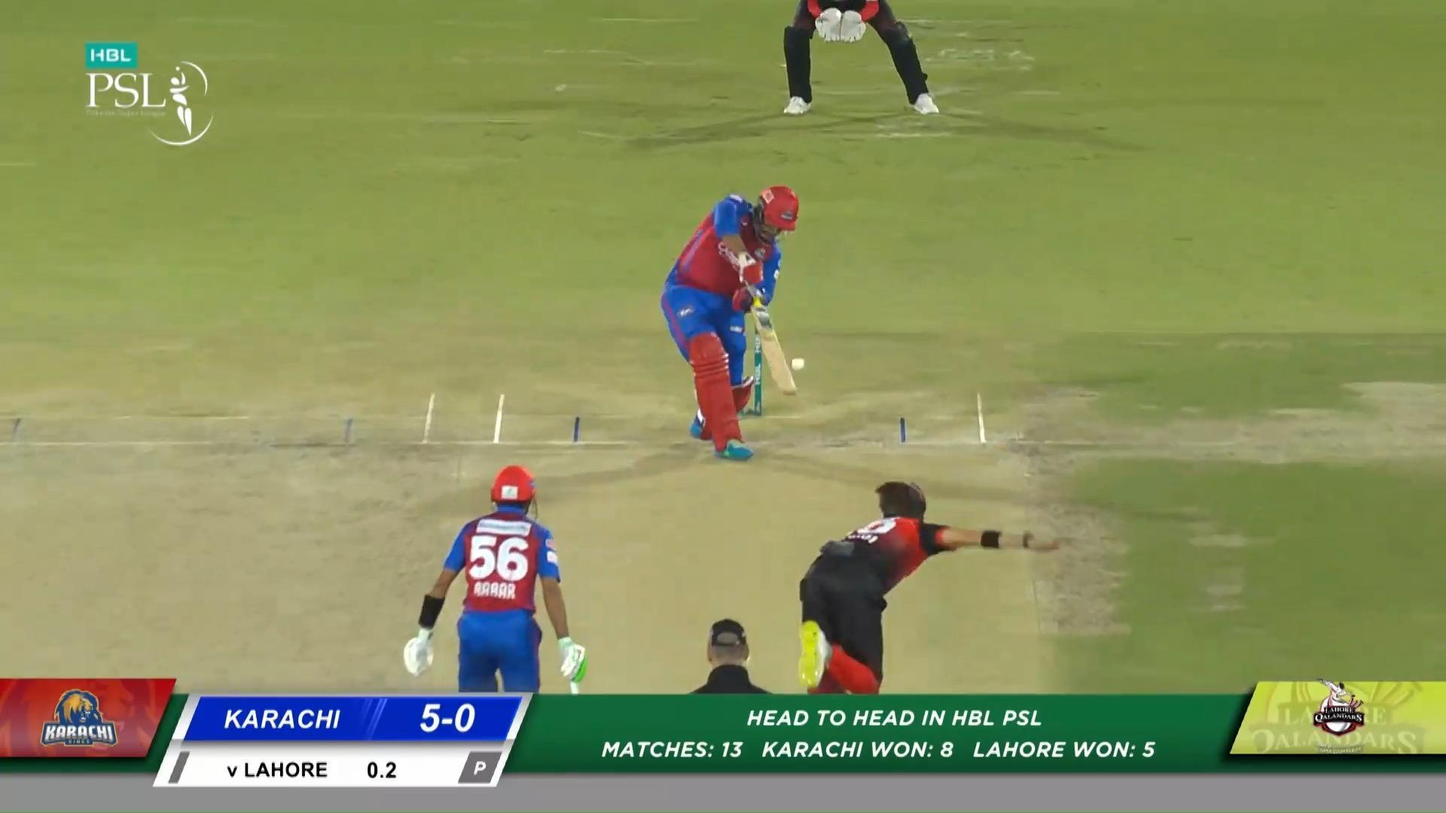BM 1: (660, 184, 801, 462)
BO: (794, 478, 1063, 809)
